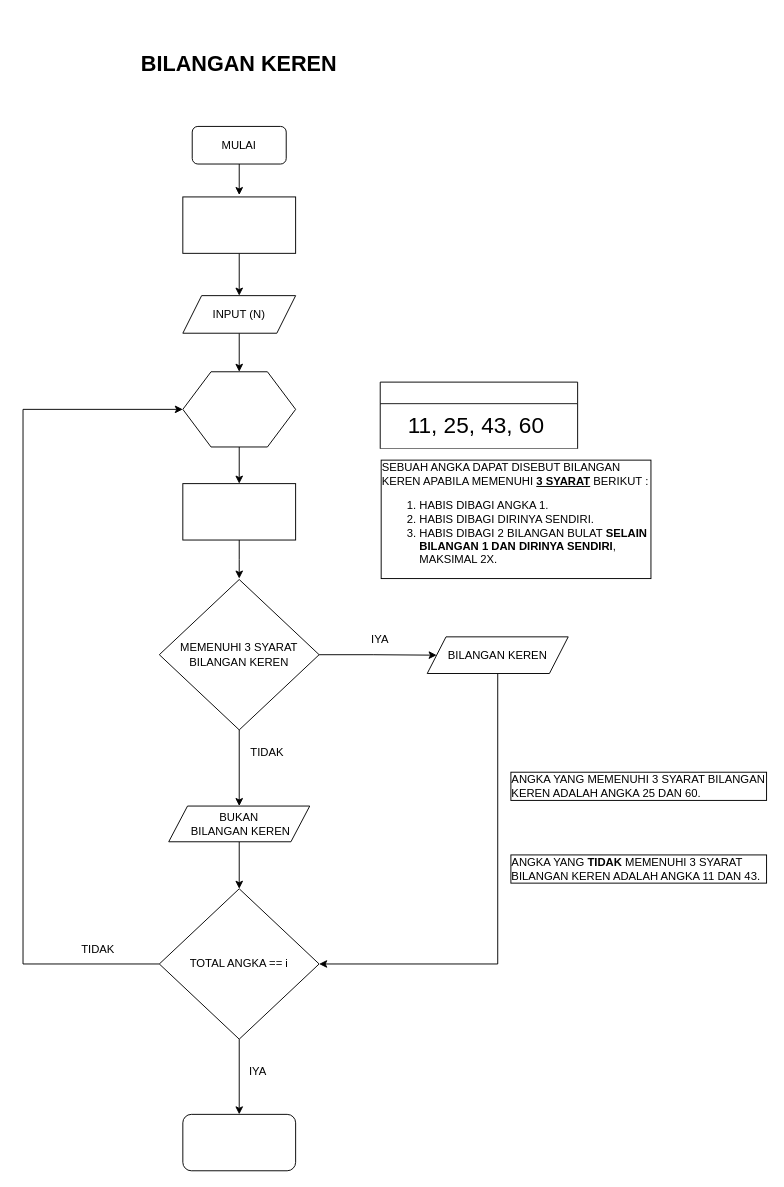
Some shapes in this 784 by 1187 pixel diagram are drawn without their labels. The shapes that lost their labels are listed below. From the top down, each one's box as (x1, y1, x2, y2) in pixels, then its label:
(182, 196, 296, 253): Total Bilangan = len(N)
(182, 371, 296, 447): i = 0; len(N) > i ; i++
(379, 381, 578, 449): TOTAL BILANGAN YANG ADA
(182, 483, 296, 540): N %1 ; N%N ; N% Bilangan Bulat Maksimal 2
(182, 1113, 296, 1171): SELESAI
